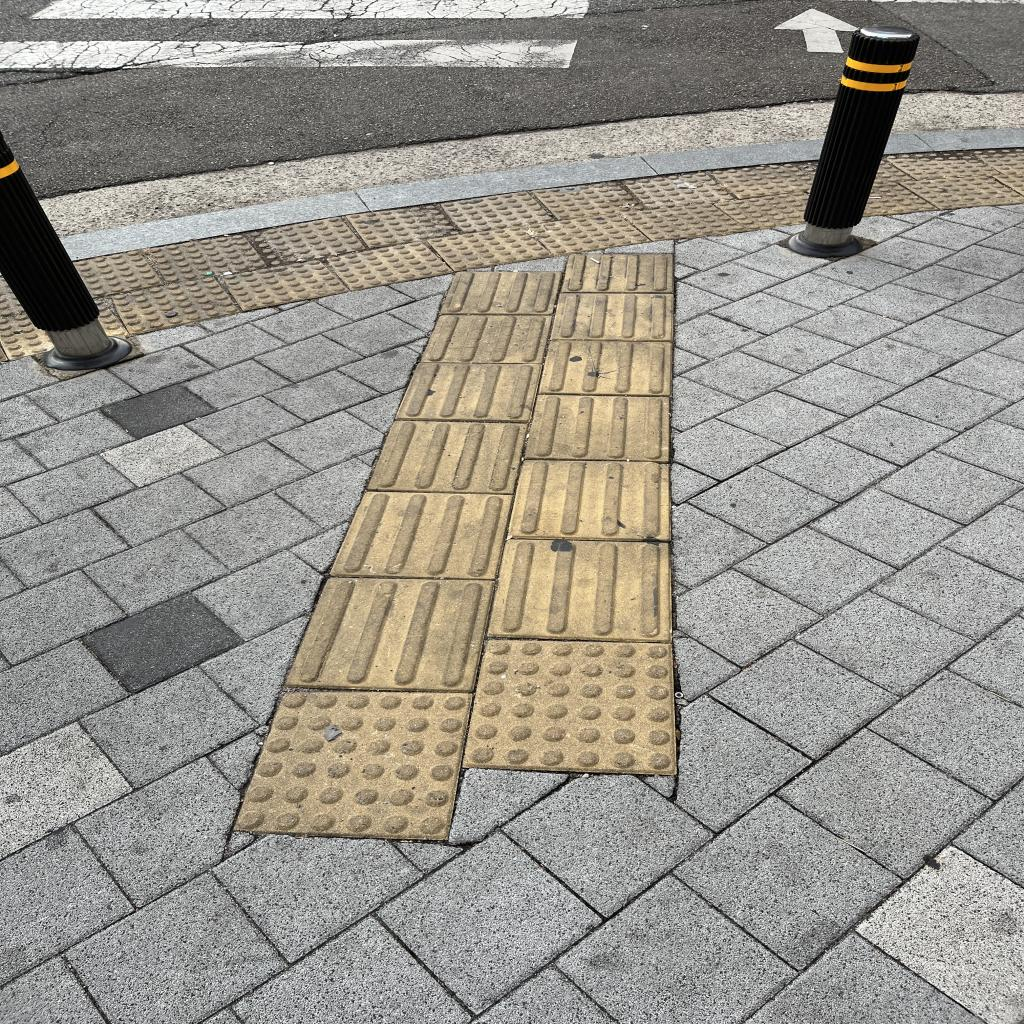Stop block normal: (235, 690, 468, 837), (465, 640, 677, 771), (326, 235, 451, 294), (621, 199, 747, 244)
Straight block normal: (289, 576, 494, 690), (489, 540, 670, 639), (334, 490, 511, 580), (511, 461, 668, 539), (368, 421, 527, 491), (525, 394, 668, 460), (397, 363, 542, 420), (551, 293, 673, 340)
